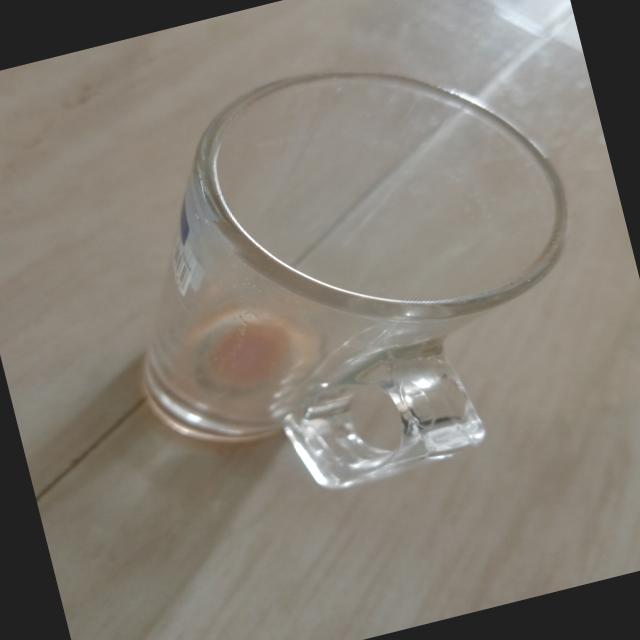glass-VX4N: (70, 18, 621, 534)
